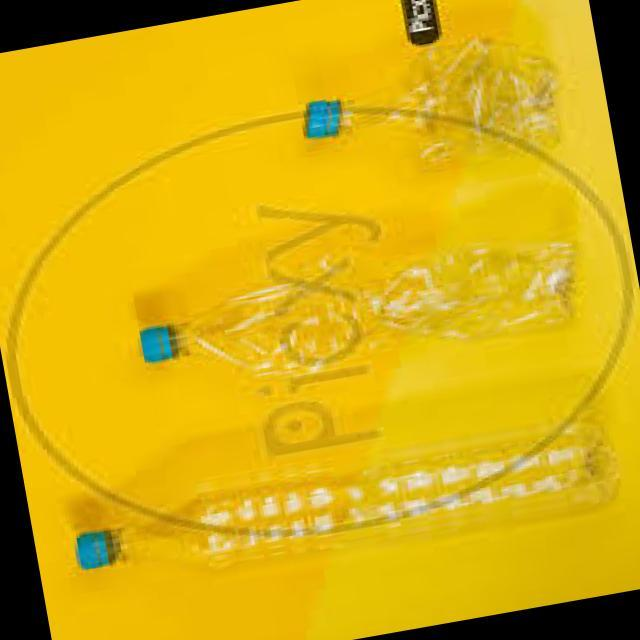defected: (274, 18, 570, 204)
good: (55, 396, 639, 610), (124, 208, 604, 414)
